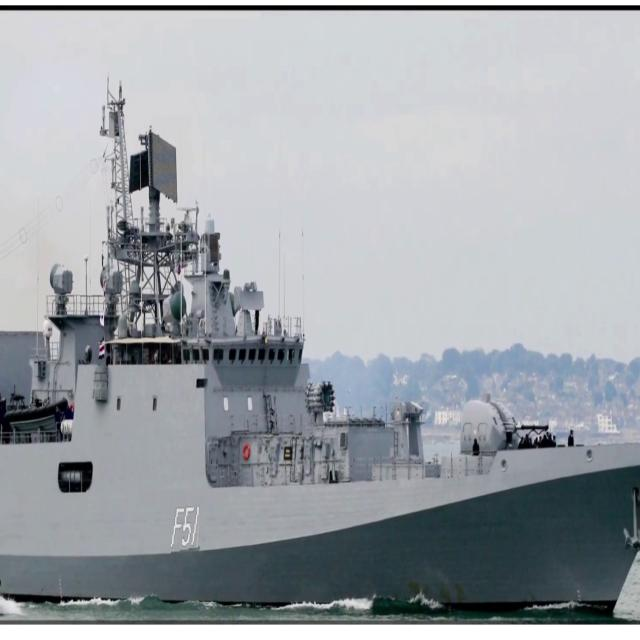OCR: (171, 504, 205, 556)
